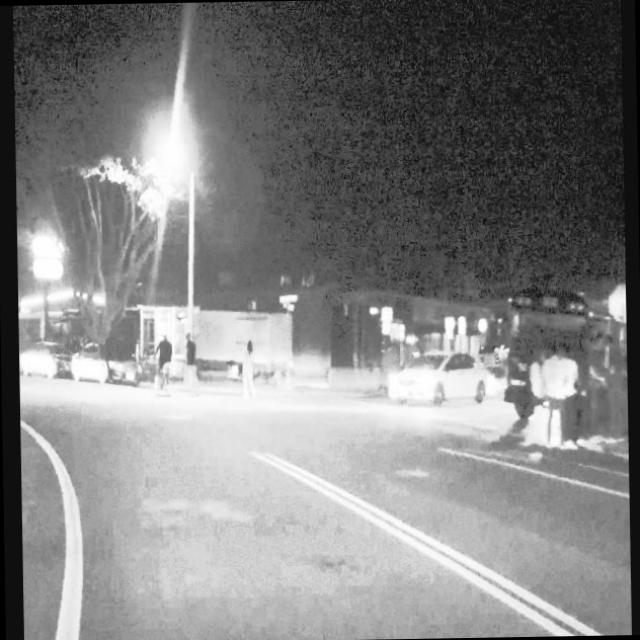Truck: (178, 309, 293, 376)
